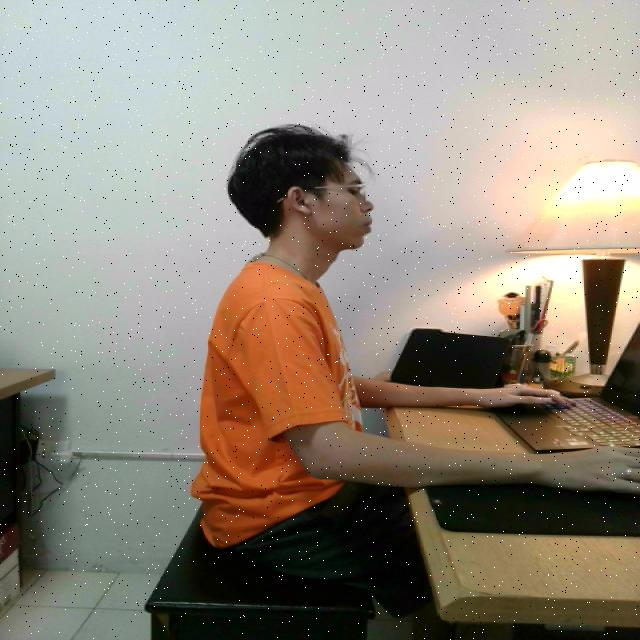Good: (193, 118, 473, 590)
